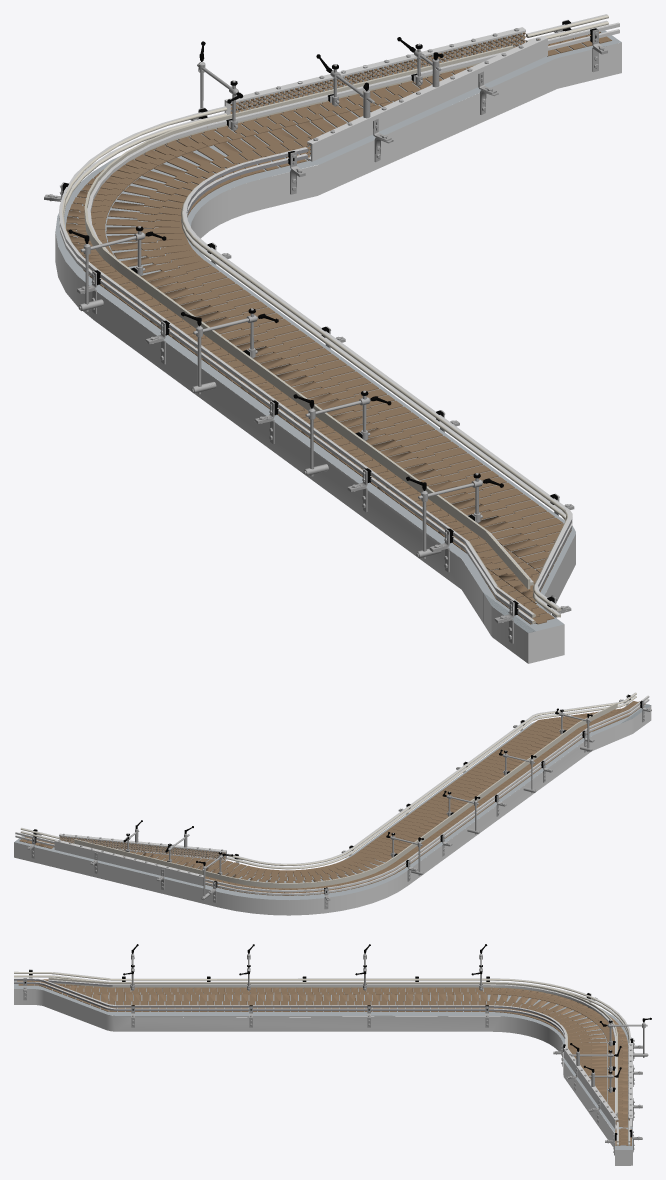
Rendered from conveyor.glb.
3 views of the same model, one above another, from view 1: azimuth 30°, elevation 25°; view 2: azimuth 150°, elevation 25°; view 3: azimuth 270°, elevation 25° (orthographic). The views are drawn at different scales.
Bounding box in the file's own units: 2.84 × 0.3914 × 4.39.
Materials: 18 (7 with a texture image).
